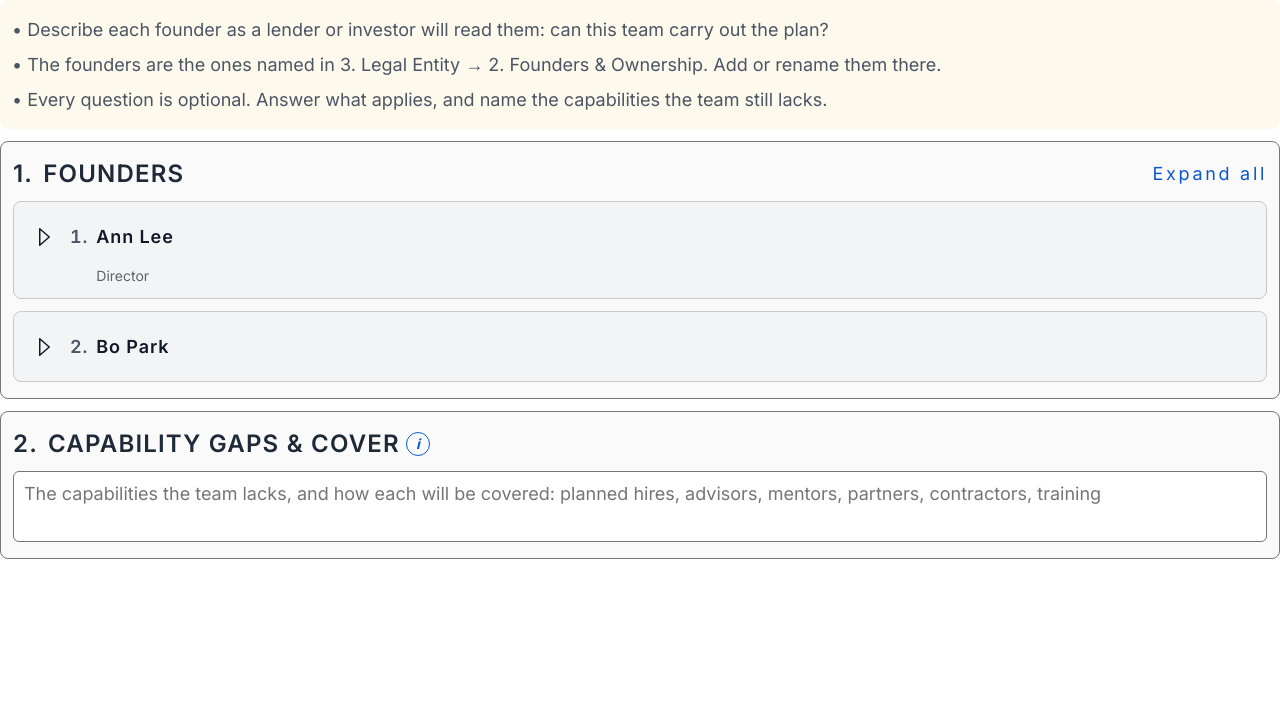
Test: FoundersProfileEditor founders › seeds a founder saved on the Legal Entity with roles and experience, and saves it as its own
Click the button named "Founder 1" at (44, 237), box [26,219,62,255]
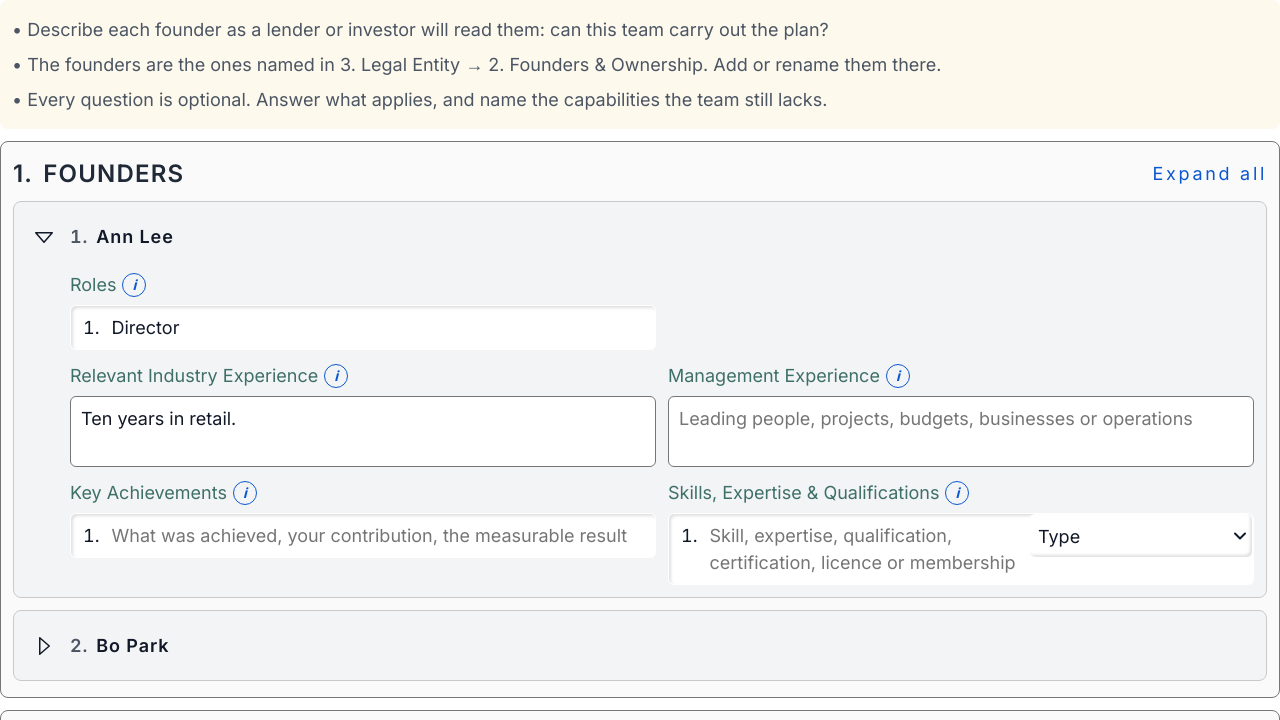
Check: the text box named "Founder 1 roles 1" holds "Director", box [100,306,655,349]
Check: the text box named "Founder 1 relevant industry experience" holds "Ten years in retail.", box [70,396,656,467]
